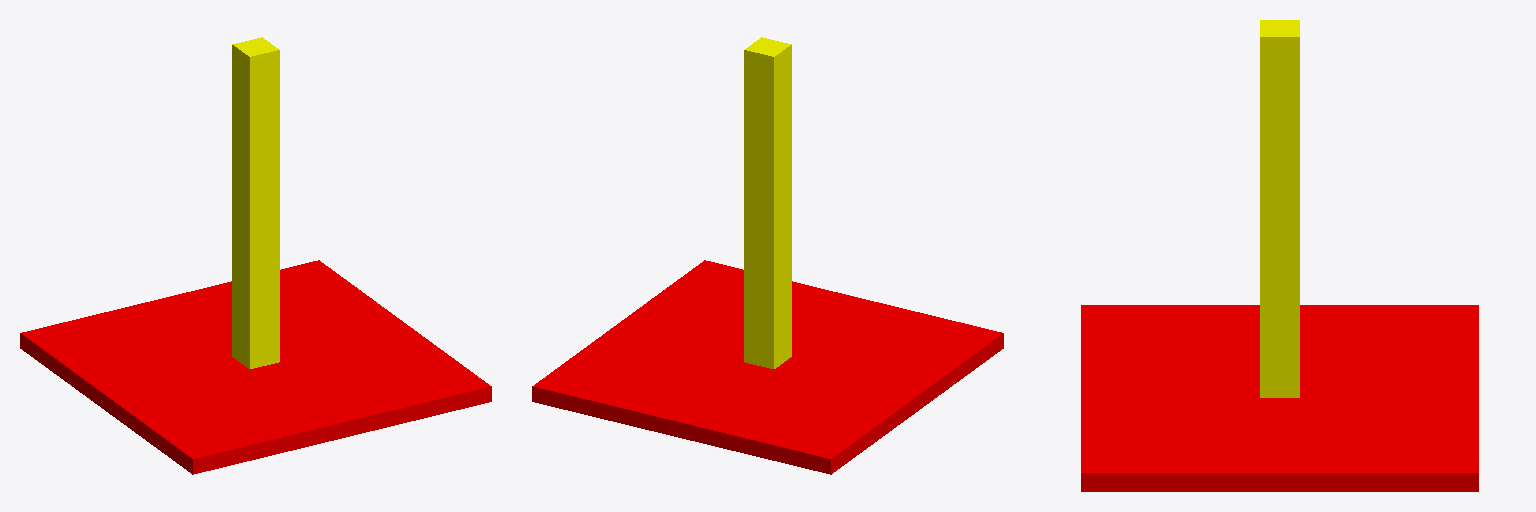
URDF robot description (pan_tilt):
<?xml version="1.0"?>
<robot name="pan_tilt">

	<!-- definire culori si transparenta -->
	<material name="white">
		<color rgba="1 1 1 1"/>
	</material>

	<material name="blue">
		<color rgba="0 0 1 0.5"/>
	</material>

	<material name="yellow">
		<color rgba="1 1 0 1"/>
	</material>

	<material name="red">
		<color rgba="1 0 0 0.8"/>
	</material>


	<!-- baza robotului -->
	<link name="base_link">

		<!-- baza robotului VIZUAL-->
		<visual>

			<!-- baza robotului GEOMETRIE-->
			<geometry>
				<box size="1 1 0.05"/>
			</geometry>
			<material name="red"/>
			<origin rpy="0 0 0" xyz="0 0 0.025"/>

		</visual>

	</link>


	<!-- element de tip pan -->
	<link name="pan_link">

		<!-- baza robotului VIZUAL-->
		<visual>

			<!-- baza robotului GEOMETRIE-->
			<geometry>
				<box size="0.1 0.1 1"/>
			</geometry>
			<material name="yellow"/>
			<origin rpy="0 0 0" xyz="0 0 0.5"/>
		</visual>

	</link>


	<!--CUPLE: baza robotului & paralelipiped -->
	<joint name="pan_joint" type="revolute">
		<parent link="base_link"/>
		<child link="pan_link"/>

		<origin xyz="0 0 0.05"/>
		<axis xyz="0 0 1" />
		<limit effort="300" velocity="0.1" lower="-3.14" upper="3.14"/>
	</joint>

</robot>

--- Render facts (derived) ---
Views: 3 orthographic renders of the robot side by side, from view 1: azimuth 30°, elevation 25°; view 2: azimuth 150°, elevation 25°; view 3: azimuth 270°, elevation 25°.
Robot: pan_tilt — 2 links, 1 joints (1 revolute); root link base_link; default pose: every joint at zero.
Links seen in each view (by area): view 1: base_link, pan_link; view 2: base_link, pan_link; view 3: base_link, pan_link.
Boxes of the visible links, x1,y1,x2,y2 form: base_link: [20, 260, 491, 474]; pan_link: [232, 37, 279, 368]; base_link: [532, 260, 1003, 474]; pan_link: [744, 37, 791, 368]; base_link: [1081, 305, 1478, 491]; pan_link: [1260, 20, 1299, 397].
Size in the robot's own frame: 1 by 1 by 1.05 metres.
Geometry: primitives only (box / cylinder / sphere), no mesh files.